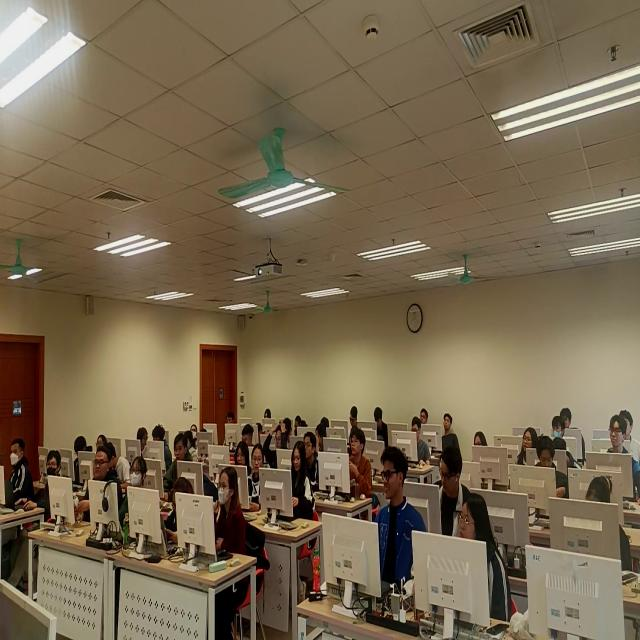raise_hand: (264, 418, 291, 468)
raise_head: (373, 445, 428, 589), (457, 490, 512, 627), (74, 447, 125, 530), (14, 447, 65, 516), (214, 465, 250, 558), (608, 412, 640, 508), (1, 436, 35, 510), (118, 453, 149, 534), (163, 429, 193, 501), (348, 428, 375, 499), (562, 404, 588, 465), (618, 408, 640, 466), (305, 431, 320, 494), (514, 427, 538, 464), (442, 411, 459, 449), (185, 429, 200, 463), (551, 415, 566, 441), (475, 429, 490, 451), (96, 433, 109, 454), (418, 403, 430, 425), (191, 422, 200, 436)
using_computer: (586, 475, 636, 573), (431, 440, 472, 535), (160, 475, 200, 560), (288, 437, 316, 523), (536, 433, 570, 501), (105, 439, 133, 483), (70, 435, 93, 487), (411, 414, 431, 473), (373, 404, 390, 449), (235, 440, 251, 475), (222, 409, 236, 448), (316, 422, 330, 456), (347, 401, 359, 439), (284, 416, 295, 447), (295, 414, 308, 439), (242, 422, 255, 447), (264, 406, 273, 424), (202, 426, 211, 442)
